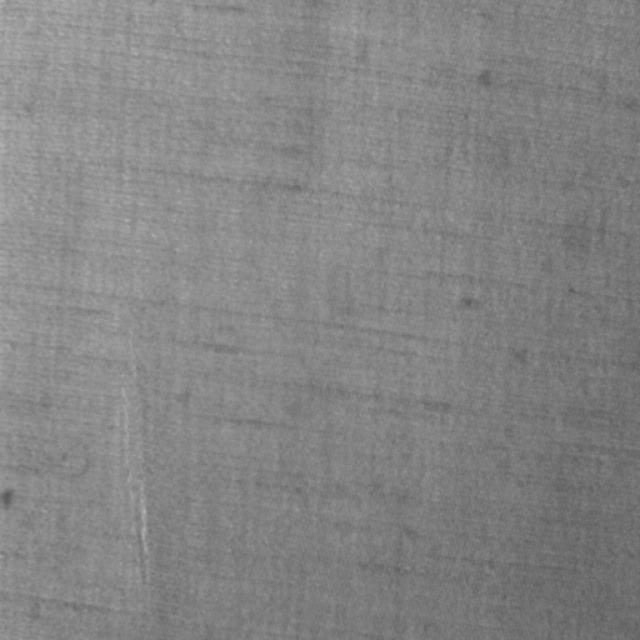thread error: (111, 364, 157, 598)
